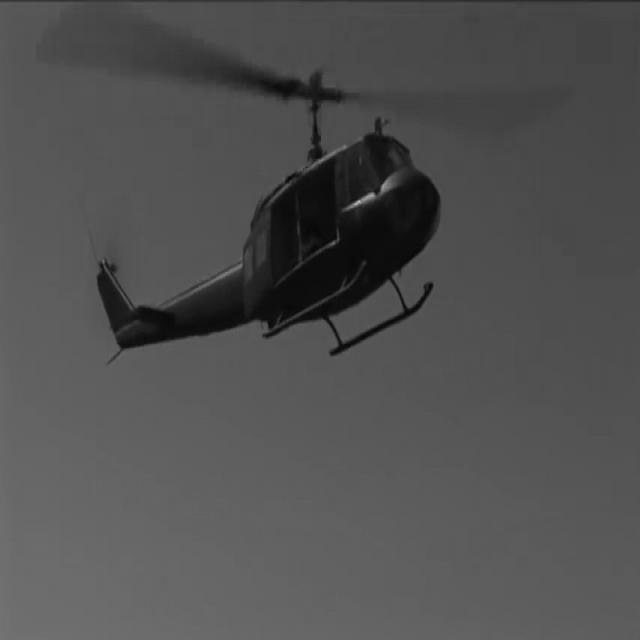helikopter: (72, 105, 446, 394)
